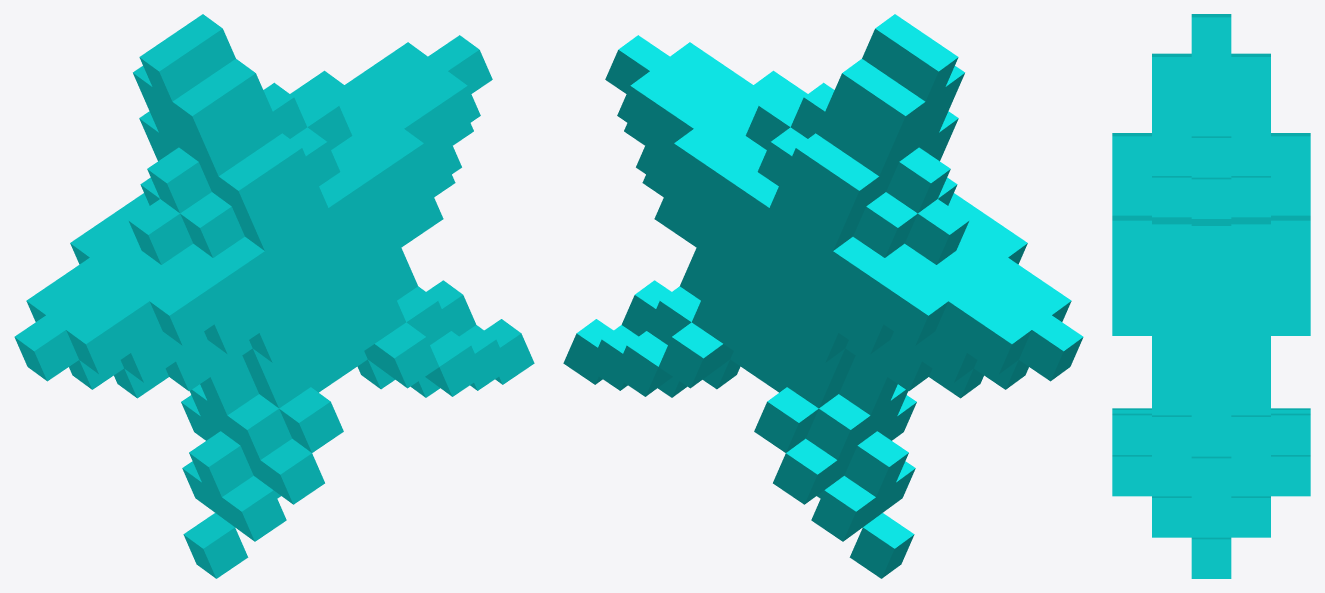
File: star-525eca1d.glb
3 renders of one model, left to right at view 1: azimuth 30°, elevation 25°; view 2: azimuth 150°, elevation 25°; view 3: azimuth 270°, elevation 25°, orthographic.
Visible parts, largest first — view 1: star.001; view 2: star.001; view 3: star.001.
Part boxes in pixels (<box>): star.001: <box>14,14,534,578</box>; star.001: <box>563,14,1083,578</box>; star.001: <box>1112,14,1310,578</box>.
Bounding box in the file's own units: 1.45 × 1.52 × 0.5.
